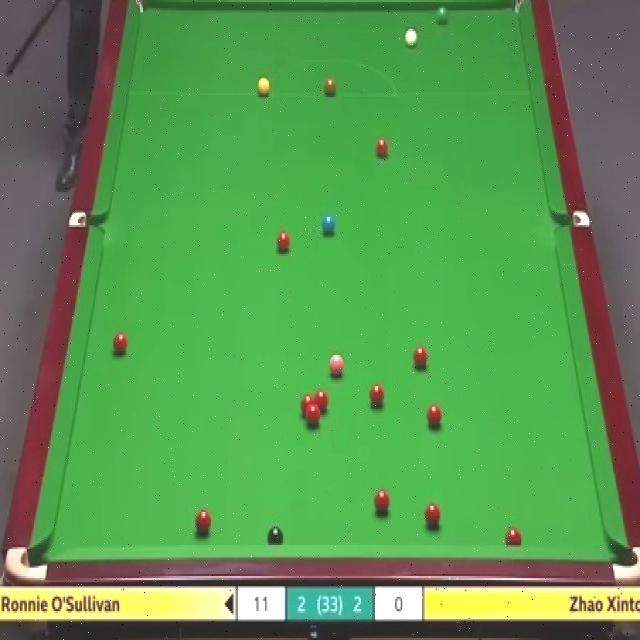black-ball: (266, 526, 286, 547)
blue-ball: (322, 212, 337, 238)
brown-ball: (324, 74, 336, 95)
green-ball: (434, 5, 448, 26)
pink-ball: (328, 354, 346, 380)
red-ball: (366, 380, 384, 408), (412, 344, 430, 371), (424, 504, 442, 531), (194, 508, 211, 536), (373, 490, 390, 516), (426, 402, 443, 427), (300, 394, 315, 420), (112, 330, 127, 354), (277, 229, 290, 256), (314, 390, 328, 414), (504, 526, 522, 544), (306, 408, 322, 428), (376, 136, 387, 157)
white-ball: (404, 28, 418, 47)
yellow-ball: (256, 77, 271, 96)
